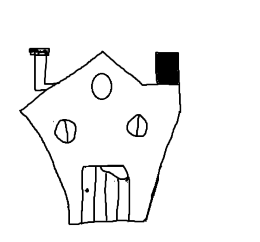chimney: (26, 35, 64, 92), (150, 42, 187, 91)
closed_window: (119, 114, 155, 146), (50, 114, 81, 144)
door: (77, 157, 136, 228)
open_window: (86, 68, 115, 103)
single_line_roof: (15, 47, 196, 120)
wall: (15, 114, 179, 233)
